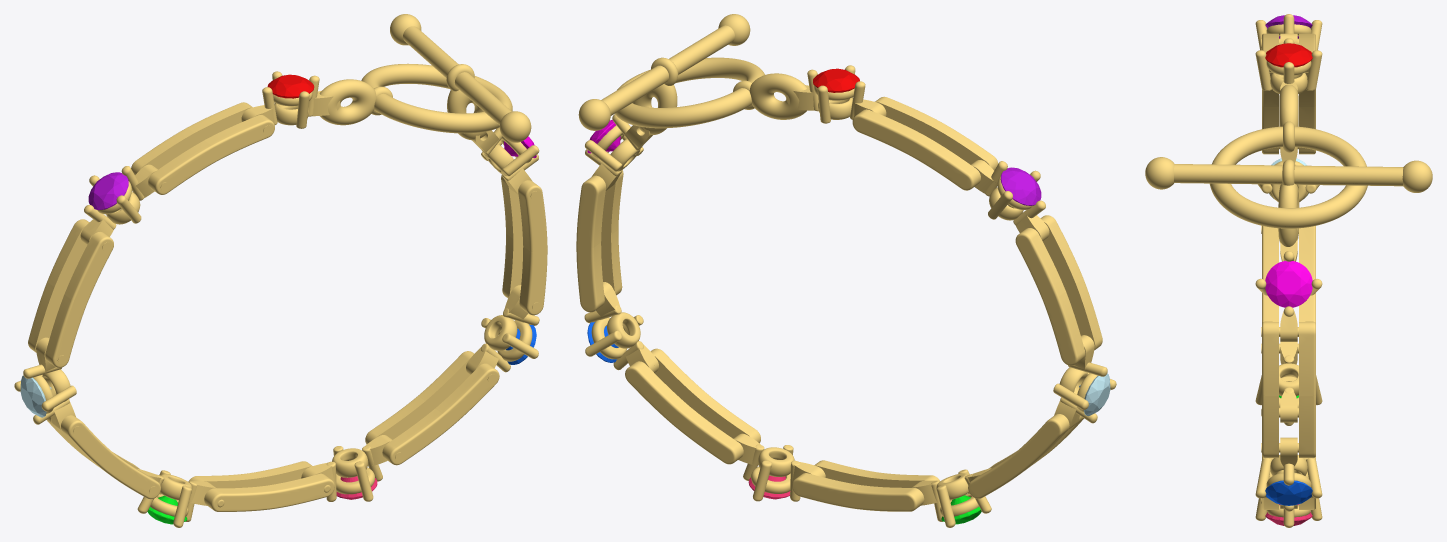
The model's file is DeanYGversion2.glb.
3 renders of one model, left to right at view 1: azimuth 30°, elevation 25°; view 2: azimuth 150°, elevation 25°; view 3: azimuth 270°, elevation 25°, orthographic. The views are drawn at different scales.
Visible parts, largest first — view 1: V2 Dean YG for 3d model, V2 Dean amethyst for 3d model, V2 Dean almandine garnet for 3d model, V2 Dean aquamarine for 3d model; view 2: V2 Dean YG for 3d model, V2 Dean amethyst for 3d model, V2 Dean almandine garnet for 3d model, V2 Dean aquamarine for 3d model; view 3: V2 Dean YG for 3d model, V2 Dean pink sapphire for 3d model, V2 Dean sapphire for 3d model, V2 Dean almandine garnet for 3d model.
Boxes of the visible parts, x1,y1,x2,y2 form: V2 Dean YG for 3d model: (14, 14, 547, 527); V2 Dean amethyst for 3d model: (88, 172, 128, 210); V2 Dean almandine garnet for 3d model: (267, 74, 314, 98); V2 Dean aquamarine for 3d model: (20, 375, 51, 417); V2 Dean YG for 3d model: (576, 14, 1116, 527); V2 Dean amethyst for 3d model: (1000, 167, 1041, 205); V2 Dean almandine garnet for 3d model: (813, 68, 859, 92); V2 Dean aquamarine for 3d model: (1079, 373, 1110, 416); V2 Dean YG for 3d model: (1145, 14, 1432, 527); V2 Dean pink sapphire for 3d model: (1265, 261, 1312, 307); V2 Dean sapphire for 3d model: (1265, 480, 1312, 505); V2 Dean almandine garnet for 3d model: (1265, 43, 1312, 67).
Bounding box in the file's own units: 76.6 × 61.35 × 35.95.
